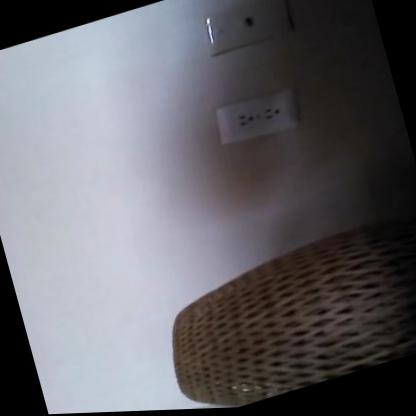OUTLET: (211, 83, 304, 149)
